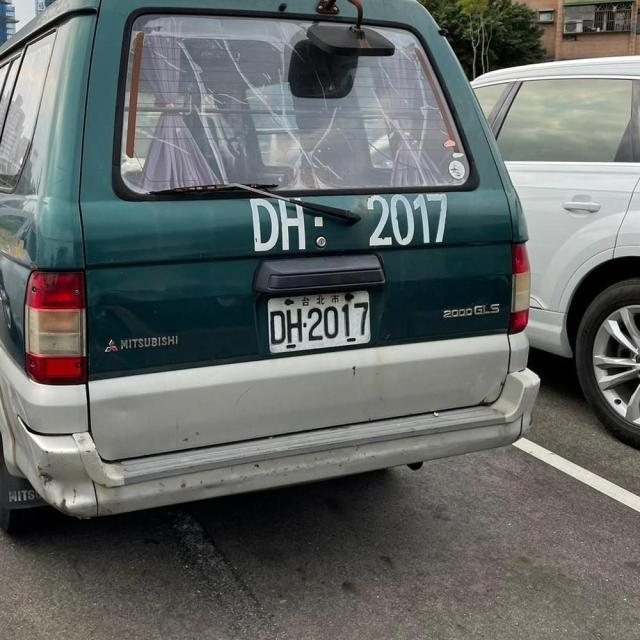W: (261, 283, 382, 356)
